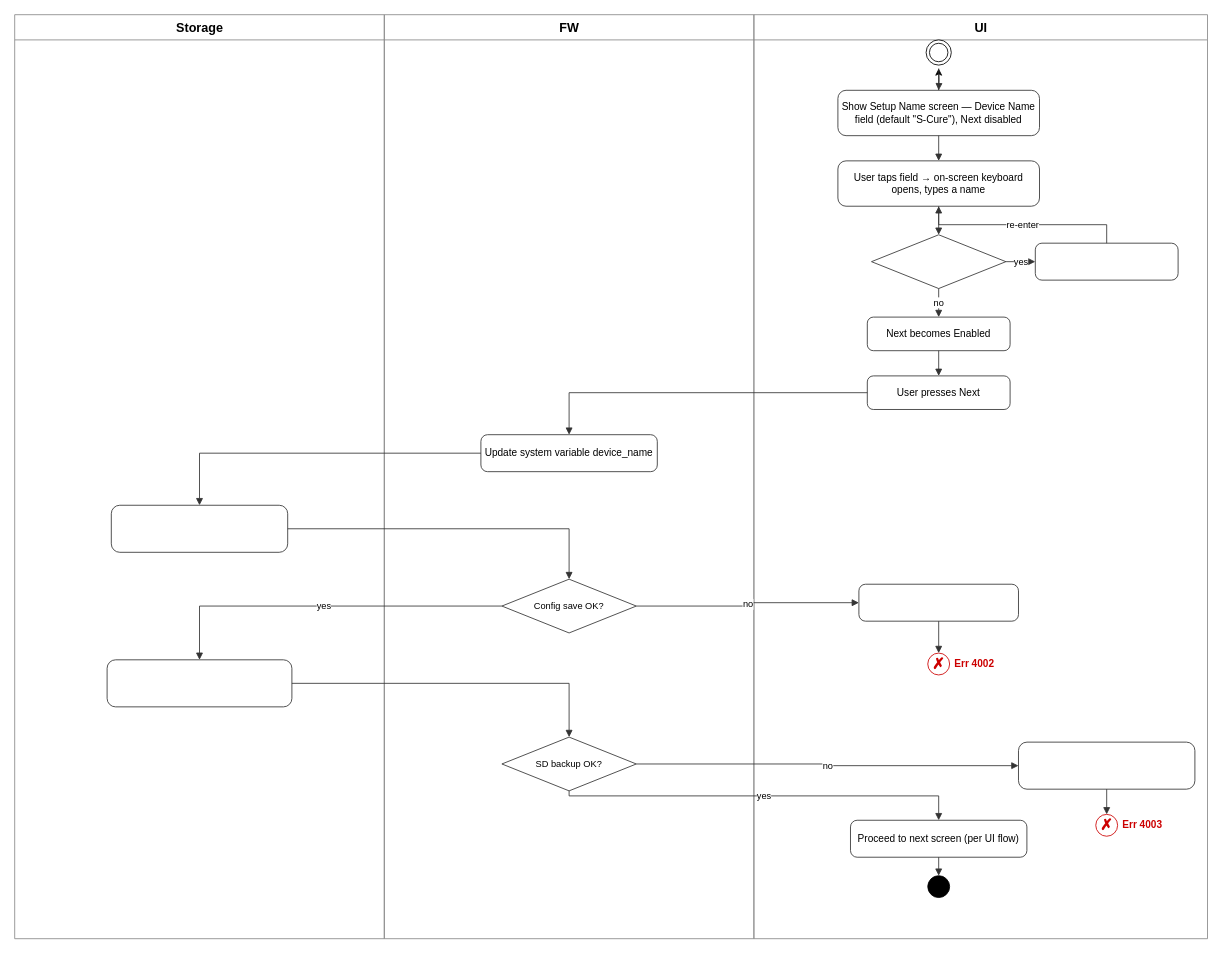
This 1222x953 diagram has some shape labels left out. Here are the shapes that lost their labels. From the top down, the centre of each, then its label:
At [938,261]: "Name field empty?".
At [1106,261]: "Next stays Disabled; user re-enters name".
At [199,528]: "Save device_name to config on Storage (/etc/scure/config.json)".
At [938,602]: "Show error, log; stay on screen".
At [199,683]: "Back up device_name to SD (/mnt/ssd2/scure/config_backup.json)".
At [1106,765]: "Show error, log (block / warning per policy — OI-6)".
